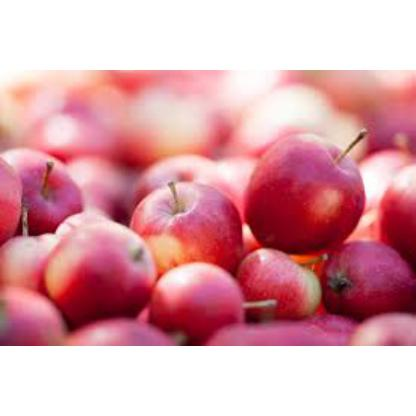apple: (250, 134, 364, 245), (48, 222, 155, 316), (136, 180, 242, 266), (316, 237, 412, 309), (239, 244, 323, 312), (3, 148, 83, 218), (153, 260, 243, 322)
